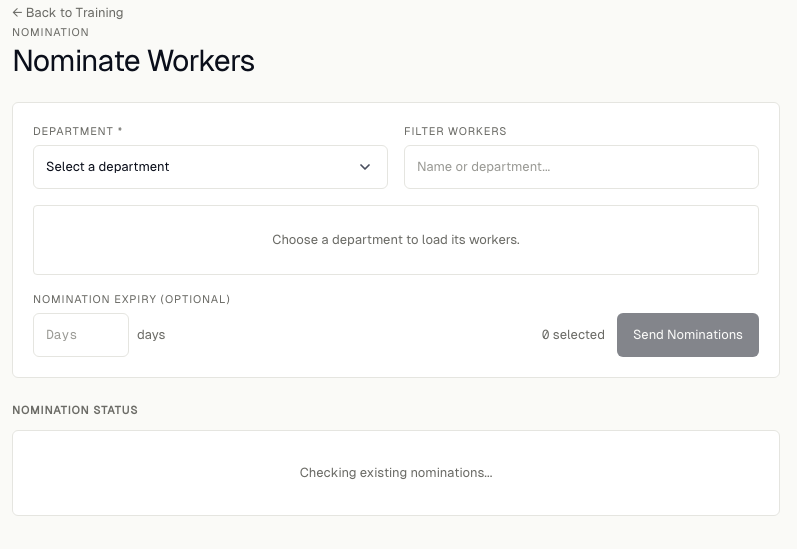
Test: offers only team departments and rejects broader candidate responses
Select "Sound" in the dropdown labelled "Department *". click: (210, 167)
box: [33,145,388,189]
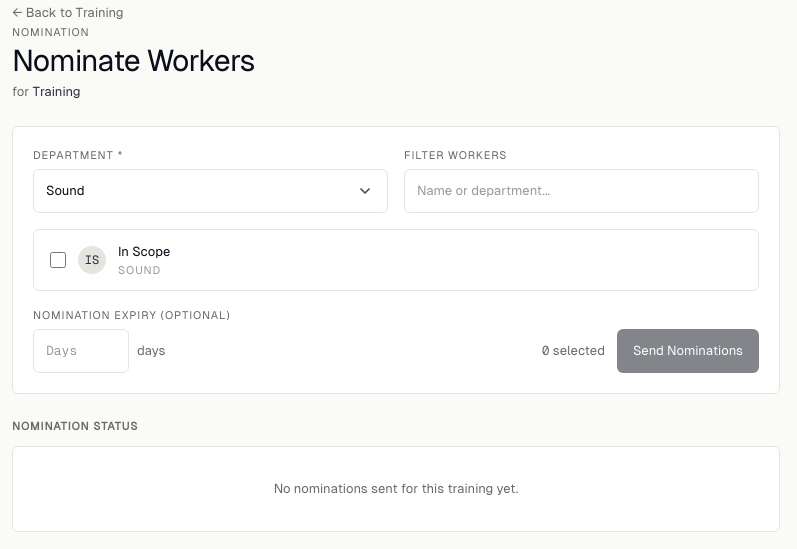
Result: the checkbox labelled "IS In Scope Sound" is shown at [50,252,66,268]
